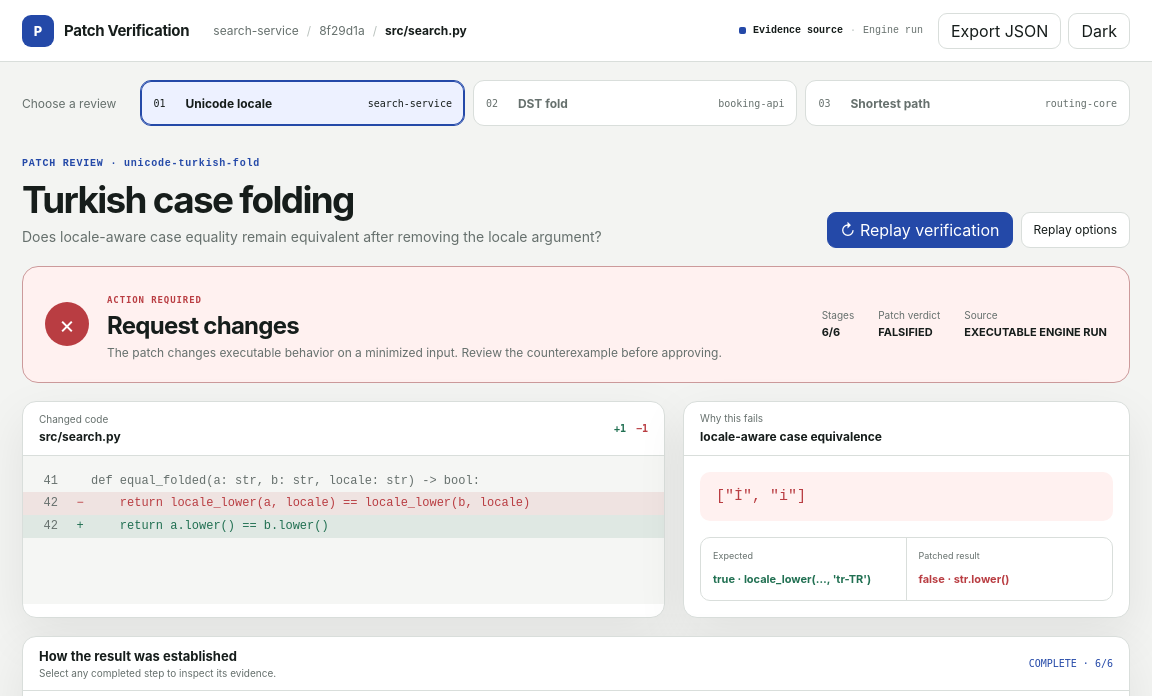
Test: Patch Verification forensic workbench › switches between all three sourced evidence cases
The image size is (1152, 696).
Expected: the element named "Evidence source: executed engine run. This describes provenance, not the patch verdict." is shown, [739, 25, 923, 36]
Expected: the text "Patch verdict" is shown, [878, 309, 940, 321]
Click the button "02 DST fold booking-api" at {"x": 543, "y": 103}, box [473, 80, 797, 126]
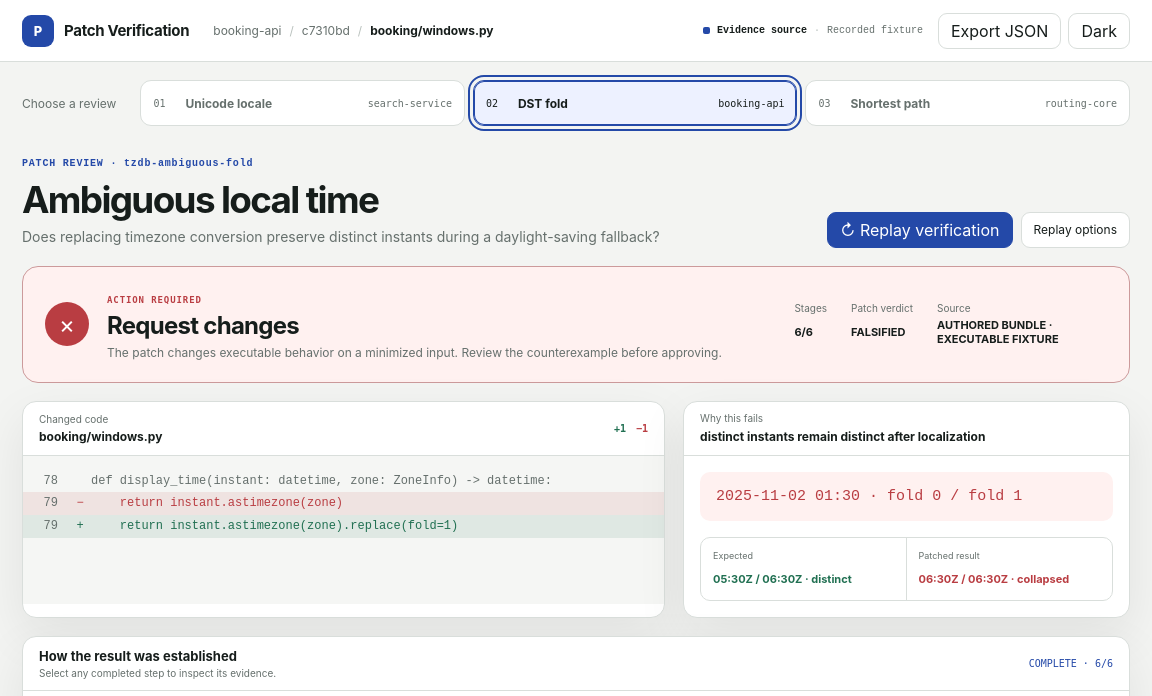
Expected: the heading "Ambiguous local time" is shown, [22, 177, 378, 222]
Expected: the element named "Evidence source: recorded executable fixture. This describes provenance, not the patch verdict." is shown, [703, 25, 923, 36]
Expected: the text "Recorded fixture" is shown, [827, 25, 923, 36]
Click the button "03 Shortest path routing-core" at {"x": 890, "y": 103}, box [806, 80, 1130, 126]
(page scrolled)
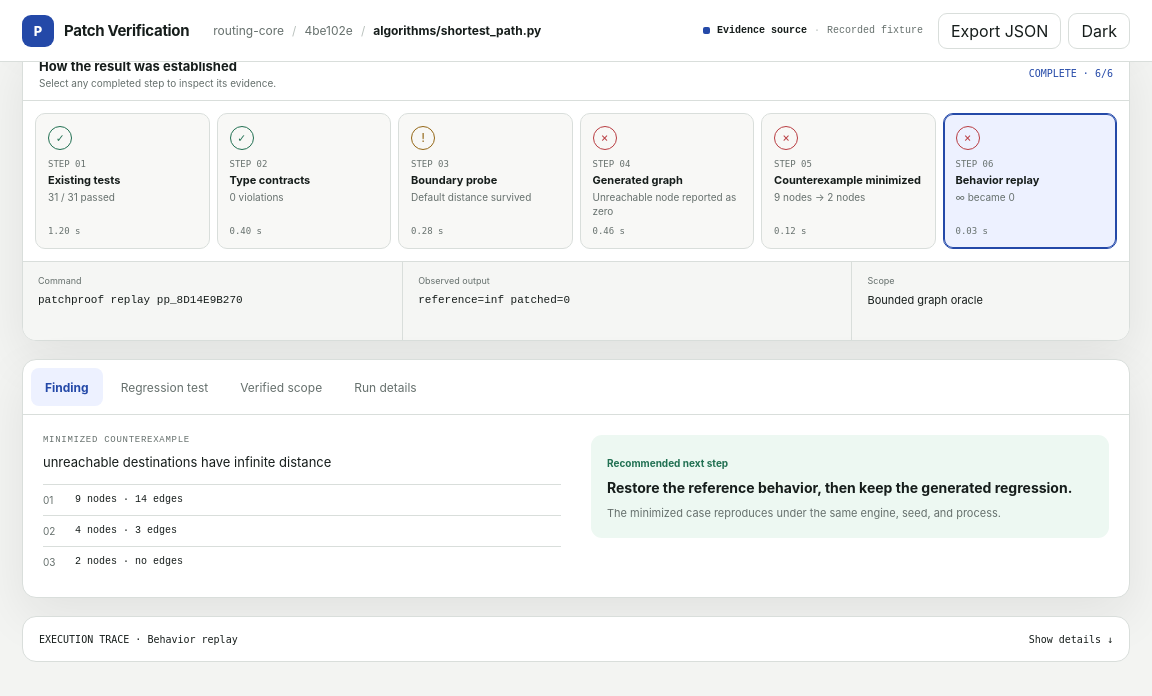
Click the tab "Run details" at {"x": 385, "y": 388}, box [340, 368, 431, 406]
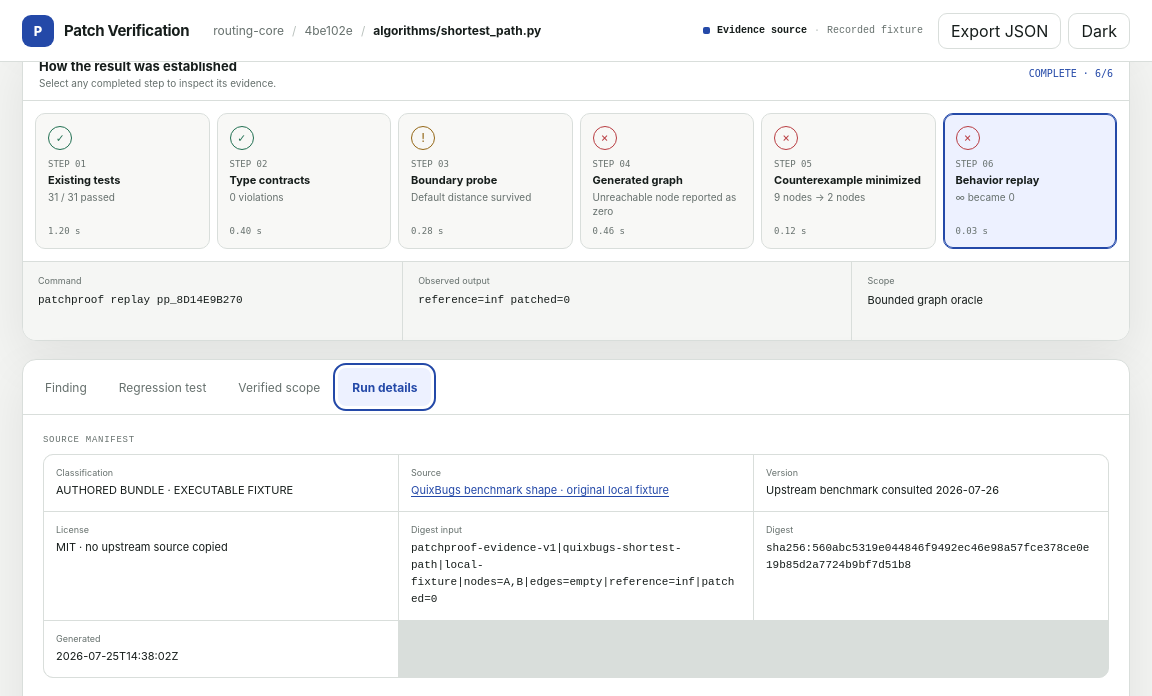
Expected: the link "QuixBugs benchmark shape · original local fixture" is shown, [411, 484, 669, 498]
